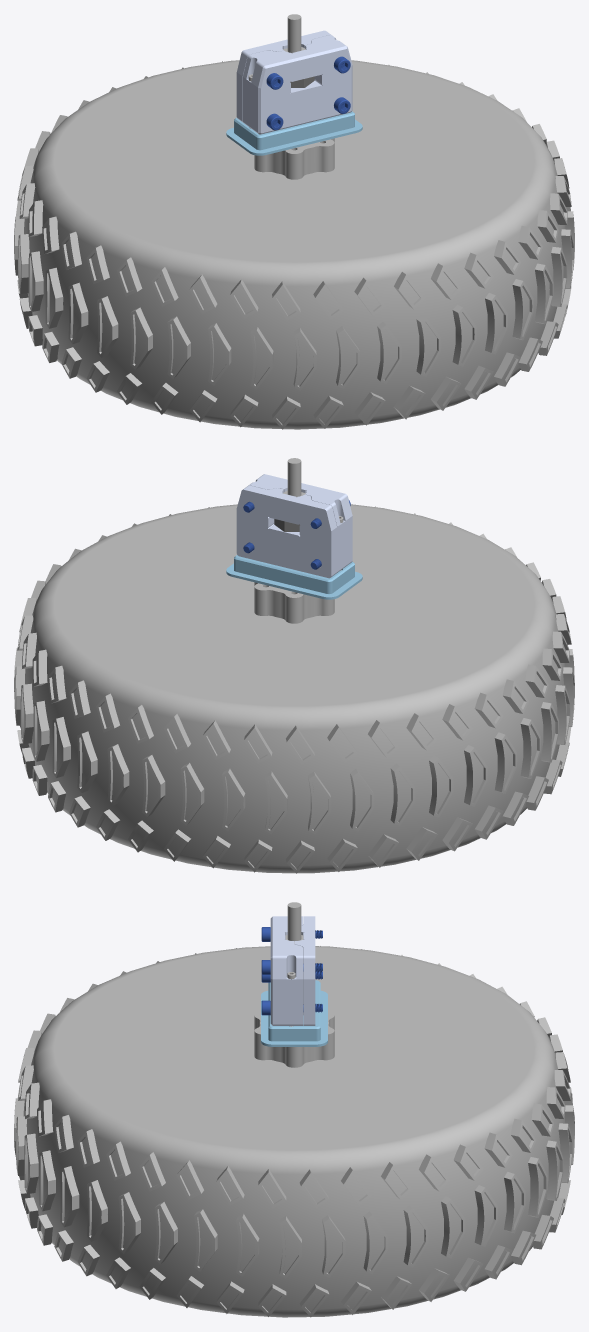
Rendered from max_wheels_15in_neo.dae.
3 renders of one model, top to bottom at view 1: azimuth 30°, elevation 25°; view 2: azimuth 150°, elevation 25°; view 3: azimuth 270°, elevation 25°, orthographic.
Visible parts, largest first — view 1: 15in Wheel, Wheel Block Top Max, Wheel Plug Max, Wheel Block Bottom Max; view 2: 15in Wheel, Wheel Block Bottom Max, Wheel Plug Max, Wheel Block Top Max; view 3: 15in Wheel, Wheel Block Top Max, Wheel Plug Max, Wheel Block Bottom Max.
Part boxes in pixels (x1,y1,x2,y2): 15in Wheel: (14,14,574,429); Wheel Block Top Max: (243,35,352,134); Wheel Plug Max: (226,111,362,155); Wheel Block Bottom Max: (236,30,330,122); 15in Wheel: (14,458,574,873); Wheel Block Bottom Max: (236,485,337,578); Wheel Plug Max: (226,555,362,599); Wheel Block Top Max: (249,474,352,572); 15in Wheel: (14,902,574,1317); Wheel Block Top Max: (270,916,303,1025); Wheel Plug Max: (261,980,327,1046); Wheel Block Bottom Max: (294,916,315,1025).
Size of the model in its own units: 0.3753 by 0.3753 by 0.2281.
